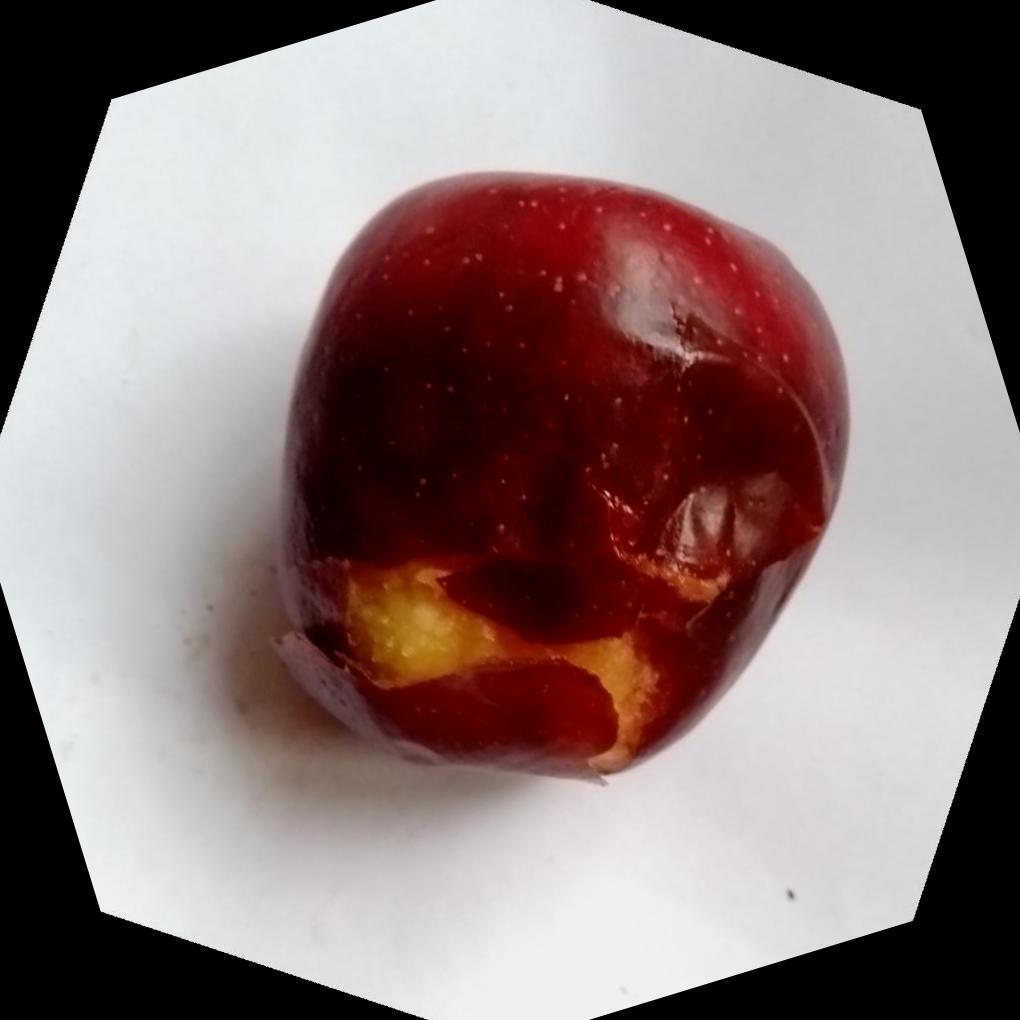FreshOrange: (267, 169, 849, 784)
